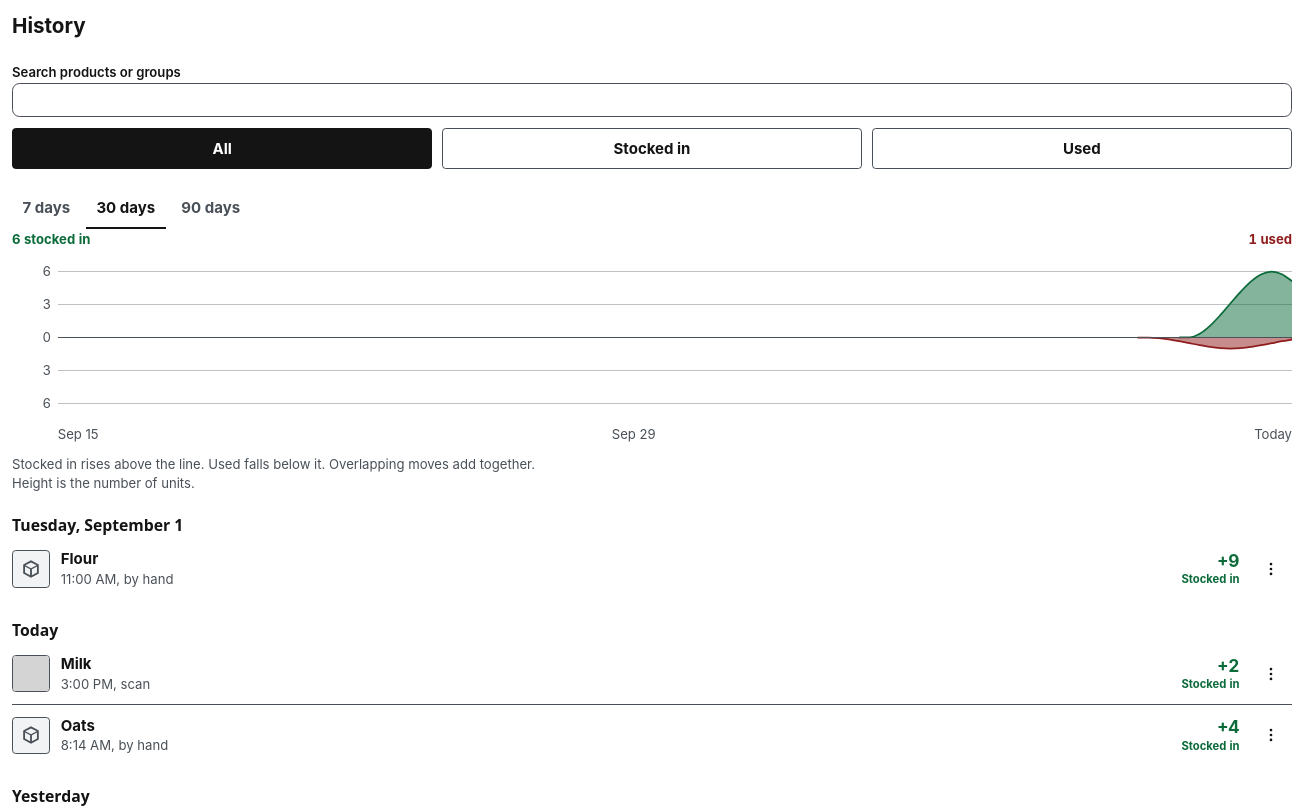
Scenario: LedgerPage › charts the filtered moves, and leaves older moves in the list
Expected: the text "Height is the number of units" is shown, [12, 456, 535, 491]
Expected: the text "Flour" is shown, [61, 549, 98, 568]
Click the button "90 days".
click(211, 209)  # box [171, 188, 251, 229]
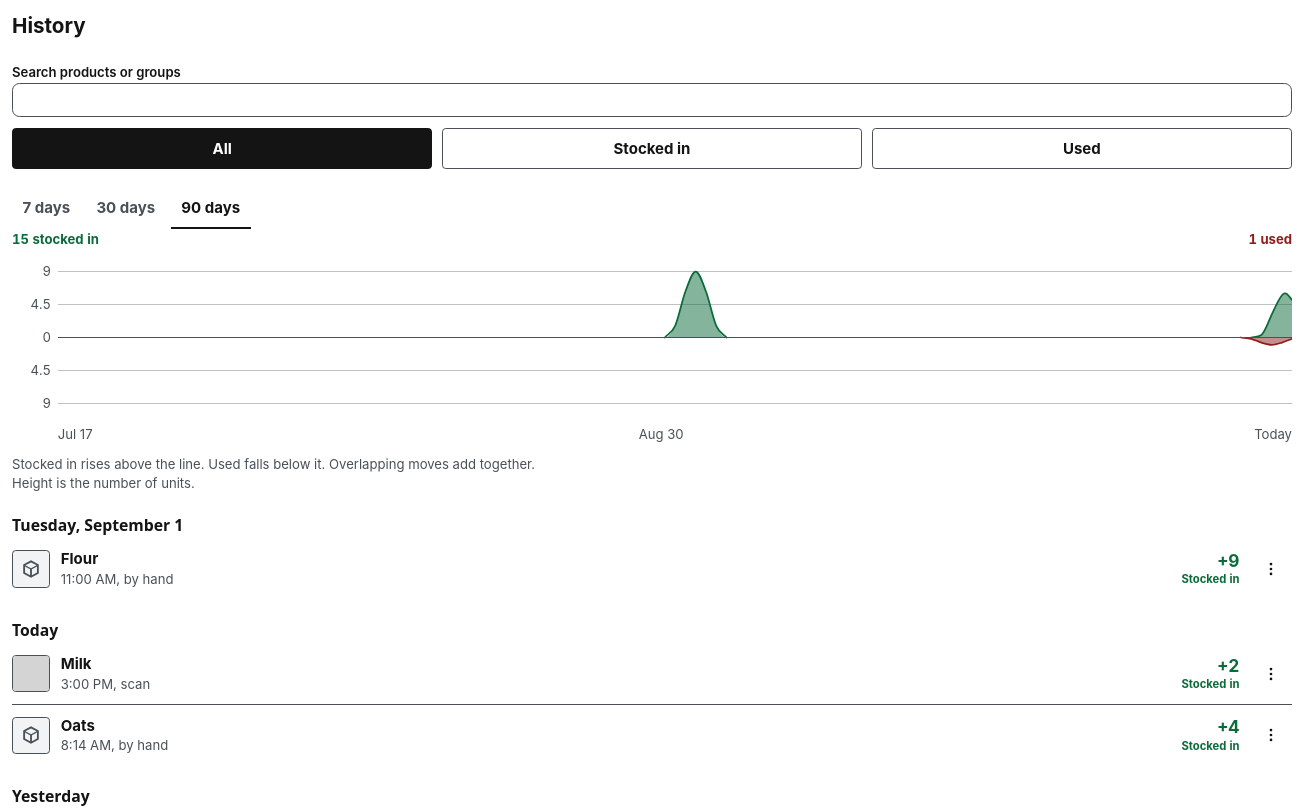
Expected: the picture named "Last 90 days. 15 units stocked in. 1 unit used." is shown, [58, 255, 1292, 420]
Click the button "30 days".
click(126, 209)  # box [86, 188, 166, 229]
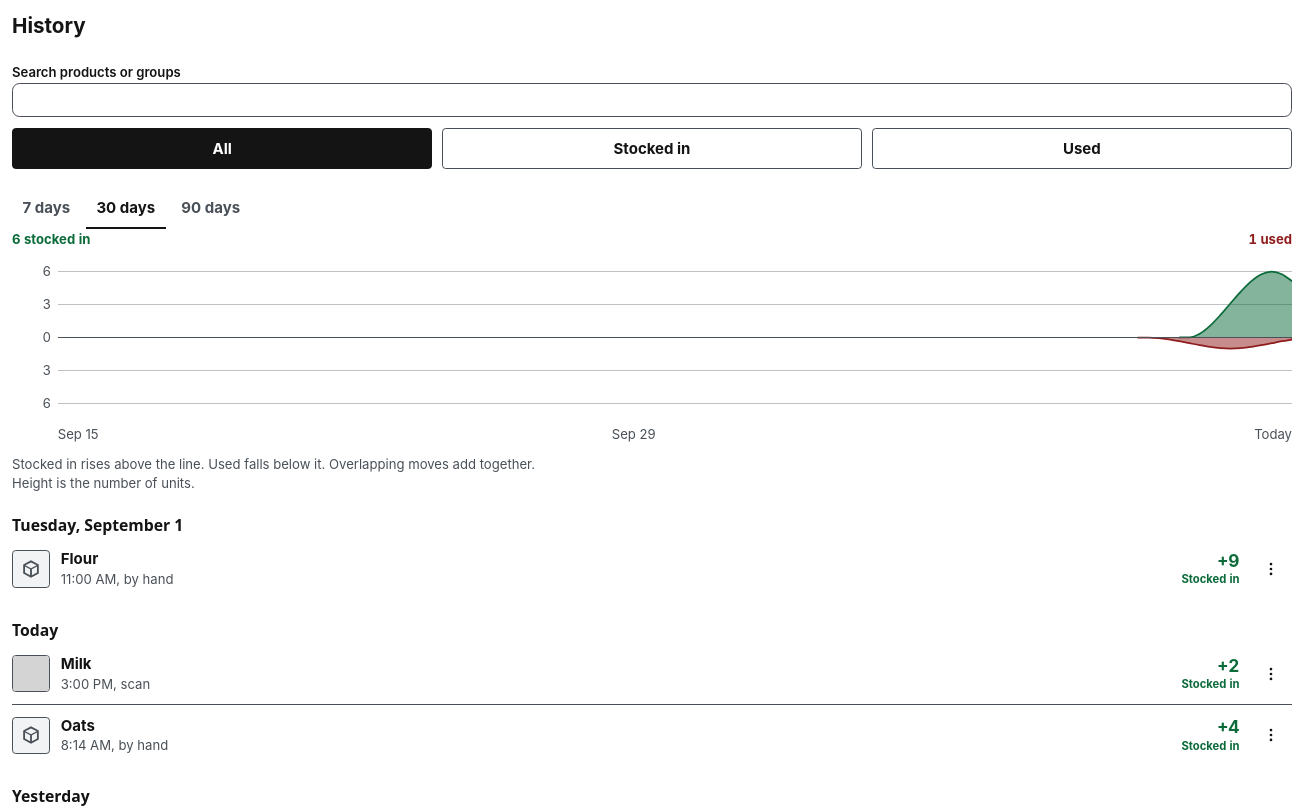
Click the button "Used".
click(1082, 149)  # box [872, 128, 1292, 169]
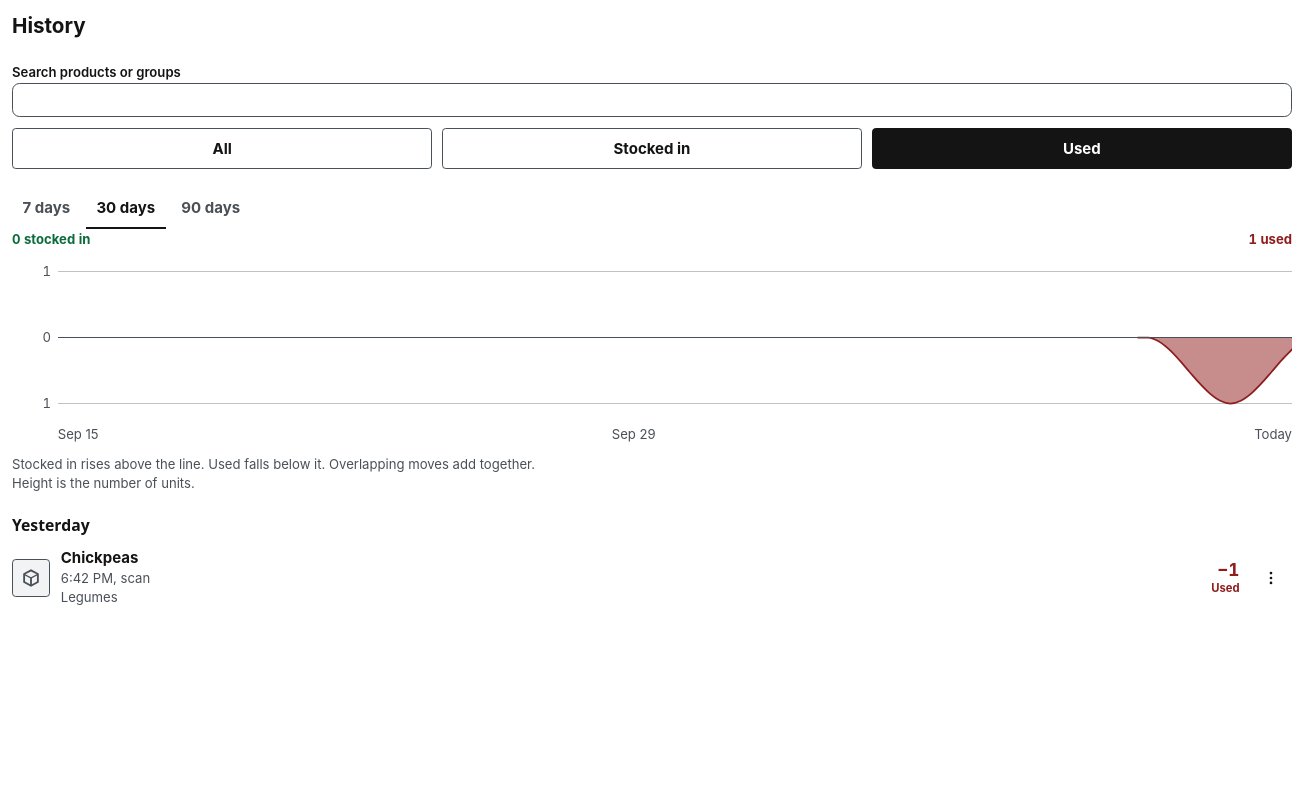
Expected: the picture named "Last 30 days. No units stocked in. 1 unit used." is shown, [58, 255, 1292, 420]
Expected: the text "Flour" is gone
